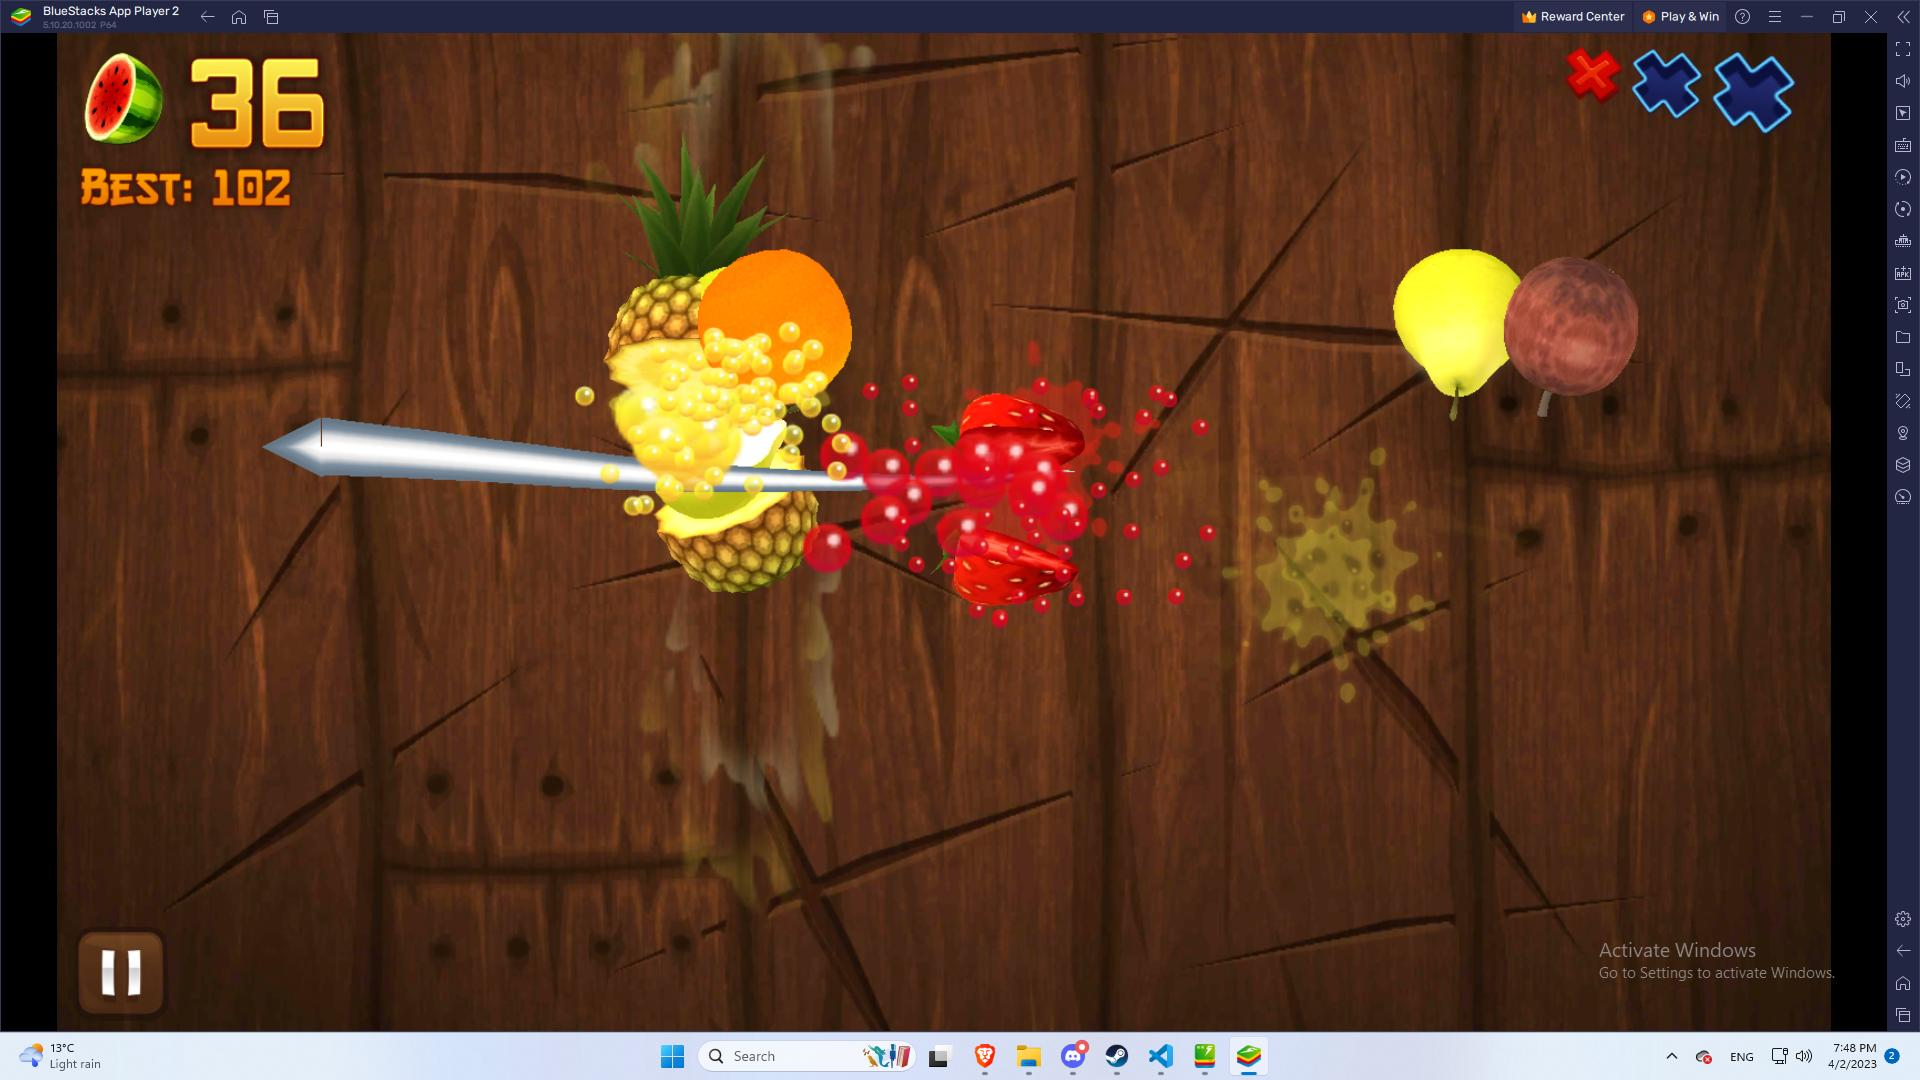fruit: (1502, 256, 1648, 436), (1389, 245, 1520, 419)
